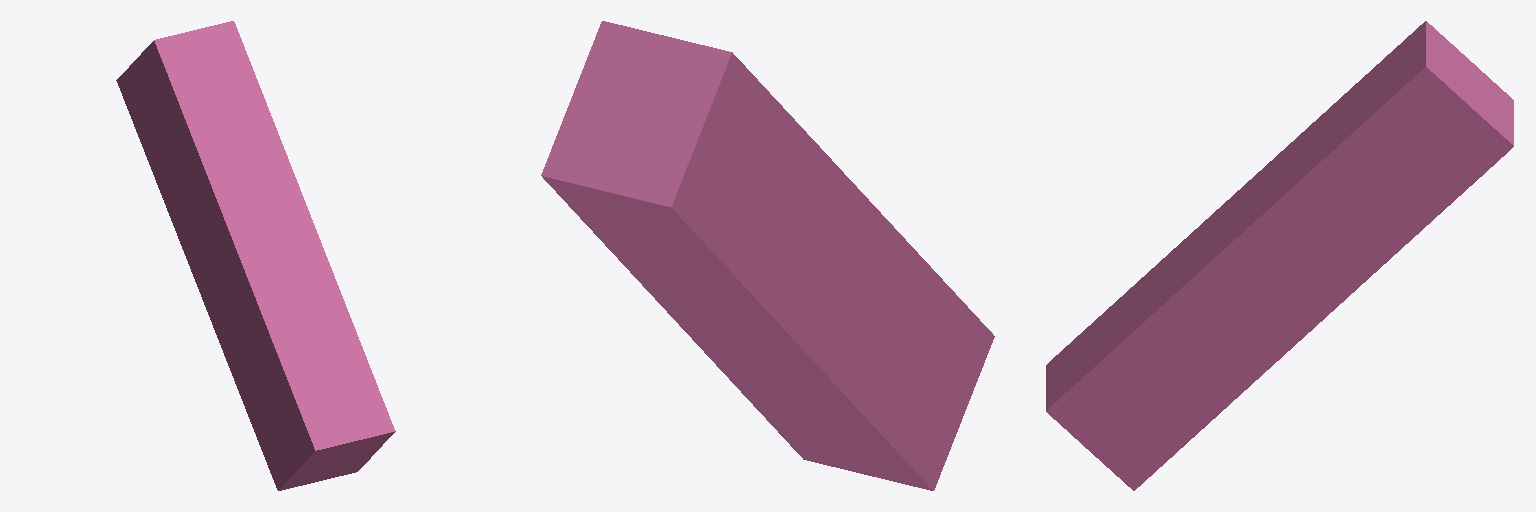
URDF robot description (panda):
<?xml version="1.0" ?>
<!-- =================================================================================== -->
<!-- |    This document was autogenerated by xacro from panda_arm.urdf.xacro           | -->
<!-- |    EDITING THIS FILE BY HAND IS NOT RECOMMENDED                                 | -->
<!-- =================================================================================== -->
<robot name="panda">
  <link name="panda_link0">
    <visual>
      <geometry>
        <mesh filename="franka_description/meshes/visual/link0.dae"/>
      </geometry>
    </visual>
    <collision>
      <geometry>
        <mesh filename="franka_description/meshes/collision/link0.stl"/>
      </geometry>
    </collision>
    <inertial>
      <origin rpy="0 0 0" xyz="-0.041018 -0.00014 0.049974"/>
      <mass value="0.629769"/>
      <inertia ixx="0.00315" ixy="8.2904e-07" ixz="0.00015" iyy="0.00388" iyz="8.2299e-06" izz="0.004285"/>
    </inertial>
  </link>
  <link name="panda_link1">
    <visual>
      <geometry>
        <mesh filename="franka_description/meshes/visual/link1.dae"/>
      </geometry>
    </visual>
    <collision>
      <geometry>
        <mesh filename="franka_description/meshes/collision/link1.stl"/>
      </geometry>
    </collision>
    <inertial>
      <origin rpy="0 0 0" xyz="0.003875 0.002081 -0.04762"/>
      <mass value="4.970684"/>
      <inertia ixx="0.70337" ixy="-0.000139" ixz="0.006772" iyy="0.70661" iyz="0.019169" izz="0.009117"/>
    </inertial>
  </link>
  <joint name="panda_joint1" type="revolute">
    <safety_controller k_position="100.0" k_velocity="40.0" soft_lower_limit="-2.8973" soft_upper_limit="2.8973"/>
    <origin rpy="0 0 0" xyz="0 0 0.333"/>
    <parent link="panda_link0"/>
    <child link="panda_link1"/>
    <axis xyz="0 0 1"/>
    <limit effort="87" lower="-2.8973" upper="2.8973" velocity="2.1750"/>
    <dynamics D="1" K="7000" damping="0.003" friction="0.0" mu_coulomb="0" mu_viscous="16"/>
  </joint>
  <link name="panda_link2">
    <visual>
      <geometry>
        <mesh filename="franka_description/meshes/visual/link2.dae"/>
      </geometry>
    </visual>
    <collision>
      <geometry>
        <mesh filename="franka_description/meshes/collision/link2.stl"/>
      </geometry>
    </collision>
    <inertial>
      <origin rpy="0 0 0" xyz="-0.003141 -0.02872  0.003495"/>
      <mass value="0.646926"/>
      <inertia ixx="0.007962" ixy="-0.003925" ixz="0.010254" iyy="0.02811" iyz="0.000704" izz="0.025995"/>
    </inertial>
  </link>
  <joint name="panda_joint2" type="revolute">
    <safety_controller k_position="100.0" k_velocity="40.0" soft_lower_limit="-1.7628" soft_upper_limit="1.7628"/>
    <origin rpy="-1.5707963267948966 0 0" xyz="0 0 0"/>
    <parent link="panda_link1"/>
    <child link="panda_link2"/>
    <axis xyz="0 0 1"/>
    <limit effort="87" lower="-1.7628" upper="1.7628" velocity="2.1750"/>
    <dynamics D="1" K="7000" damping="0.003" friction="0.0" mu_coulomb="0" mu_viscous="16"/>
  </joint>
  <link name="panda_link3">
    <visual>
      <geometry>
        <mesh filename="franka_description/meshes/visual/link3.dae"/>
      </geometry>
    </visual>
    <collision>
      <geometry>
        <mesh filename="franka_description/meshes/collision/link3.stl"/>
      </geometry>
    </collision>
    <inertial>
      <origin rpy="0 0 0" xyz="2.7518e-02 3.9252e-02 -6.6502e-02"/>
      <mass value="3.228604"/>
      <inertia ixx="0.037242" ixy="-0.004761" ixz="-0.011396" iyy="0.036155" iyz="-0.012805" izz="0.01083"/>
    </inertial>
  </link>
  <joint name="panda_joint3" type="revolute">
    <safety_controller k_position="100.0" k_velocity="40.0" soft_lower_limit="-2.8973" soft_upper_limit="2.8973"/>
    <origin rpy="1.5707963267948966 0 0" xyz="0 -0.316 0"/>
    <parent link="panda_link2"/>
    <child link="panda_link3"/>
    <axis xyz="0 0 1"/>
    <limit effort="87" lower="-2.8973" upper="2.8973" velocity="2.1750"/>
    <dynamics D="1" K="7000" damping="0.003" friction="0.0" mu_coulomb="0" mu_viscous="16"/>
  </joint>
  <link name="panda_link4">
    <visual>
      <geometry>
        <mesh filename="franka_description/meshes/visual/link4.dae"/>
      </geometry>
    </visual>
    <collision>
      <geometry>
        <mesh filename="franka_description/meshes/collision/link4.stl"/>
      </geometry>
    </collision>
    <inertial>
      <origin rpy="0 0 0" xyz="-5.317e-02 1.04419e-01 2.7454e-02"/>
      <mass value="3.587895"/>
      <inertia ixx="0.025853" ixy="0.007796" ixz="-0.001332" iyy="0.019552" iyz="0.008641" izz="0.028323"/>
    </inertial>
  </link>
  <joint name="panda_joint4" type="revolute">
    <safety_controller k_position="100.0" k_velocity="40.0" soft_lower_limit="-3.0718" soft_upper_limit="-0.0698"/>
    <origin rpy="1.5707963267948966 0 0" xyz="0.0825 0 0"/>
    <parent link="panda_link3"/>
    <child link="panda_link4"/>
    <axis xyz="0 0 1"/>
    <limit effort="87" lower="-3.0718" upper="-0.0698" velocity="2.1750"/>
    <dynamics D="1" K="7000" damping="0.003" friction="0.0" mu_coulomb="0" mu_viscous="16"/>
  </joint>
  <link name="panda_link5">
    <visual>
      <geometry>
        <mesh filename="franka_description/meshes/visual/link5.dae"/>
      </geometry>
    </visual>
    <collision>
      <geometry>
        <mesh filename="franka_description/meshes/collision/link5.stl"/>
      </geometry>
    </collision>
    <inertial>
      <origin rpy="0 0 0" xyz="-1.1953e-02 4.1065e-02 -3.8437e-02"/>
      <mass value="1.225946"/>
      <inertia ixx="0.035549" ixy="-0.002117" ixz="-0.004037" iyy="0.029474" iyz="0.000229" izz="0.008627"/>
    </inertial>
  </link>
  <joint name="panda_joint5" type="revolute">
    <safety_controller k_position="100.0" k_velocity="40.0" soft_lower_limit="-2.8973" soft_upper_limit="2.8973"/>
    <origin rpy="-1.5707963267948966 0 0" xyz="-0.0825 0.384 0"/>
    <parent link="panda_link4"/>
    <child link="panda_link5"/>
    <axis xyz="0 0 1"/>
    <limit effort="12" lower="-2.8973" upper="2.8973" velocity="2.6100"/>
    <dynamics D="1" K="7000" damping="0.003" friction="0.0" mu_coulomb="0" mu_viscous="16"/>
  </joint>
  <link name="panda_link6">
    <visual>
      <geometry>
        <mesh filename="franka_description/meshes/visual/link6.dae"/>
      </geometry>
    </visual>
    <collision>
      <geometry>
        <mesh filename="franka_description/meshes/collision/link6.stl"/>
      </geometry>
    </collision>
    <inertial>
      <origin rpy="0 0 0" xyz="6.0149e-02 -1.4117e-02 -1.0517e-02"/>
      <mass value="1.666555"/>
      <inertia ixx="0.001964" ixy="0.000109" ixz="-0.001158" iyy="0.004354" iyz="0.000341" izz="0.005433"/>
    </inertial>
  </link>
  <joint name="panda_joint6" type="revolute">
    <safety_controller k_position="100.0" k_velocity="40.0" soft_lower_limit="-0.0175" soft_upper_limit="3.7525"/>
    <origin rpy="1.5707963267948966 0 0" xyz="0 0 0"/>
    <parent link="panda_link5"/>
    <child link="panda_link6"/>
    <axis xyz="0 0 1"/>
    <limit effort="12" lower="-0.0175" upper="3.7525" velocity="2.6100"/>
    <dynamics D="1" K="7000" damping="0.003" friction="0.0" mu_coulomb="0" mu_viscous="16"/>
  </joint>
  <link name="panda_link7">
    <visual>
      <geometry>
        <mesh filename="franka_description/meshes/visual/link7.dae"/>
      </geometry>
    </visual>
    <collision>
      <geometry>
        <mesh filename="franka_description/meshes/collision/link7.stl"/>
      </geometry>
    </collision>
    <inertial>
      <origin rpy="0 0 0" xyz="1.0517e-02 -4.252e-03 6.1597e-02"/>
      <mass value="0.735522"/>
      <inertia ixx="0.012516" ixy="-0.000428" ixz="-0.001196" iyy="0.010027" iyz="-0.000741" izz="0.004815"/>
    </inertial>
  </link>
  <joint name="panda_joint7" type="revolute">
    <safety_controller k_position="100.0" k_velocity="40.0" soft_lower_limit="-2.8973" soft_upper_limit="2.8973"/>
    <origin rpy="1.5707963267948966 0 0" xyz="0.088 0 0"/>
    <parent link="panda_link6"/>
    <child link="panda_link7"/>
    <axis xyz="0 0 1"/>
    <limit effort="12" lower="-2.8973" upper="2.8973" velocity="2.6100"/>
    <dynamics D="1" K="7000" damping="0.003" friction="0.0" mu_coulomb="0" mu_viscous="16"/>
  </joint>
  <link name="panda_link8"/>
  <joint name="panda_joint8" type="fixed">
    <origin rpy="0 0 0" xyz="0 0 0.107"/>
    <parent link="panda_link7"/>
    <child link="panda_link8"/>
  </joint>
  <joint name="panda_hand_joint" type="fixed">
    <parent link="panda_link8"/>
    <child link="panda_hand"/>
    <origin rpy="0 0 -0.7853981633974483" xyz="0 0 0"/>
  </joint>
  <link name="panda_hand">
    <visual>
      <geometry>
        <mesh filename="franka_description/meshes/visual/hand.dae"/>
      </geometry>
    </visual>
    <collision>
      <geometry>
        <mesh filename="franka_description/meshes/collision/hand.stl"/>
      </geometry>
    </collision>
    <inertial>
      <origin rpy="0 0 0" xyz="-0.01 0 0.03"/>
      <mass value="0.73"/>
      <inertia ixx="0.001" ixy="0" ixz="0" iyy="0.0025" iyz="0" izz="0.0017"/>
    </inertial>
  </link>
  <!-- Define the hand_tcp frame -->
  <link name="panda_hand_tcp"/>
  <joint name="panda_hand_tcp_joint" type="fixed">
    <origin rpy="0 0 0" xyz="0 0 0.1034"/>
    <parent link="panda_hand"/>
    <child link="panda_hand_tcp"/>
  </joint>
  <link name="panda_leftfinger">
    <visual>
      <geometry>
        <mesh filename="franka_description/meshes/visual/finger.dae"/>
      </geometry>
    </visual>
    <!-- screw mount -->
    <collision>
      <origin rpy="0 0 0" xyz="0 18.5e-3 11e-3"/>
      <geometry>
        <box size="22e-3 15e-3 20e-3"/>
      </geometry>
    </collision>
    <!-- cartriage sledge -->
    <collision>
      <origin rpy="0 0 0" xyz="0 6.8e-3 2.2e-3"/>
      <geometry>
        <box size="22e-3 8.8e-3 3.8e-3"/>
      </geometry>
    </collision>
    <!-- diagonal finger -->
    <collision>
      <origin rpy="0.5235987755982988 0 0" xyz="0 15.9e-3 28.35e-3"/>
      <geometry>
        <box size="17.5e-3 7e-3 23.5e-3"/>
      </geometry>
    </collision>
    <!-- rubber tip with which to grasp -->
    <collision>
      <origin rpy="0 0 0" xyz="0 7.58e-3 45.25e-3"/>
      <geometry>
        <box size="17.5e-3 15.2e-3 18.5e-3"/>
      </geometry>
    </collision>
    <inertial>
      <origin rpy="0 0 0" xyz="0 0 0"/>
      <mass value="0.015"/>
      <inertia ixx="2.3749999999999997e-06" ixy="0" ixz="0" iyy="2.3749999999999997e-06" iyz="0" izz="7.5e-07"/>
    </inertial>
  </link>
  <link name="panda_rightfinger">
    <visual>
      <origin rpy="0 0 3.141592653589793" xyz="0 0 0"/>
      <geometry>
        <mesh filename="franka_description/meshes/visual/finger.dae"/>
      </geometry>
    </visual>
    <!-- screw mount -->
    <collision>
      <origin rpy="0 0 0" xyz="0 -18.5e-3 11e-3"/>
      <geometry>
        <box size="22e-3 15e-3 20e-3"/>
      </geometry>
    </collision>
    <!-- cartriage sledge -->
    <collision>
      <origin rpy="0 0 0" xyz="0 -6.8e-3 2.2e-3"/>
      <geometry>
        <box size="22e-3 8.8e-3 3.8e-3"/>
      </geometry>
    </collision>
    <!-- diagonal finger -->
    <collision>
      <origin rpy="-0.5235987755982988 0 0" xyz="0 -15.9e-3 28.35e-3"/>
      <geometry>
        <box size="17.5e-3 7e-3 23.5e-3"/>
      </geometry>
    </collision>
    <!-- rubber tip with which to grasp -->
    <collision>
      <origin rpy="0 0 0" xyz="0 -7.58e-3 45.25e-3"/>
      <geometry>
        <box size="17.5e-3 15.2e-3 18.5e-3"/>
      </geometry>
    </collision>
    <inertial>
      <origin rpy="0 0 0" xyz="0 0 0"/>
      <mass value="0.015"/>
      <inertia ixx="2.3749999999999997e-06" ixy="0" ixz="0" iyy="2.3749999999999997e-06" iyz="0" izz="7.5e-07"/>
    </inertial>
  </link>
  <joint name="panda_finger_joint1" type="prismatic">
    <parent link="panda_hand"/>
    <child link="panda_leftfinger"/>
    <origin rpy="0 0 0" xyz="0 0 0.0584"/>
    <axis xyz="0 1 0"/>
    <limit effort="100" lower="0.0" upper="0.04" velocity="0.2"/>
    <dynamics damping="0.3"/>
  </joint>
  <joint name="panda_finger_joint2" type="prismatic">
    <parent link="panda_hand"/>
    <child link="panda_rightfinger"/>
    <origin rpy="0 0 0" xyz="0 0 0.0584"/>
    <axis xyz="0 -1 0"/>
    <limit effort="100" lower="0.0" upper="0.04" velocity="0.2"/>
    <mimic joint="panda_finger_joint1"/>
    <dynamics damping="0.3"/>
  </joint>
  
  <!--  camera mount-->
  <joint name="realsense_joint" type="fixed">
    <origin rpy="0 -1.5707 3.1415" xyz="0.035 0 0.036"/>
    <parent link="panda_hand"/>
    <child link="camera_base_link"/>
  </joint>
  <link name="camera_base_link"/>
  <joint name="camera_link_joint" type="fixed">
    <origin rpy="0 0 0" xyz="0 0.02 0.0115"/>
    <parent link="camera_base_link"/>
    <child link="camera_link"/>
  </joint>
  <link name="camera_link">
    <!-- <visual>
      <origin rpy="1.57079632679 0 1.57079632679" xyz="0.00987 -0.02 0"/>
      <geometry>
        <mesh filename="franka_description/meshes/visual/d435.dae" />
      </geometry>
    </visual> -->
    <visual>
      <origin rpy="0 0 0" xyz="0 -0.02 0"/>
      <geometry>
        <box size="0.02005 0.099 0.023"/>
      </geometry>
    </visual>
    <collision>
      <origin rpy="0 0 0" xyz="0 -0.02 0"/>
      <geometry>
        <box size="0.02005 0.099 0.023"/>
      </geometry>
    </collision>
    <inertial>
      <mass value="0.564"/>
      <origin xyz="0 0 0"/>
      <inertia ixx="0.003881243" ixy="0.0" ixz="0.0" iyy="0.000498940" iyz="0.0" izz="0.003879257"/>
    </inertial>
  </link>
</robot>

--- Render facts (derived) ---
The picture shows the robot from 3 angles, left to right: view 1: azimuth 30°, elevation 25°; view 2: azimuth 150°, elevation 25°; view 3: azimuth 270°, elevation 25°; orthographic projection.
Model panda with 15 links and 14 joints (7 revolute, 2 prismatic, 5 fixed), rooted at panda_link0, posed all joints at 0 but 1 set to mid-range because 0 is outside their limits (panda_joint4 = -1.57).
Links seen in each view (by area): view 1: camera_link; view 2: camera_link; view 3: camera_link.
Link boxes in pixels (box(x1,y1,x2,y2)): camera_link: box(116, 21, 395, 490); camera_link: box(541, 21, 994, 490); camera_link: box(1046, 21, 1513, 490).
Size in the robot's own frame: 0.0201 by 0.0863 by 0.0863 metres.
Meshes: 10 distinct files referenced, 0 mesh visuals loaded (none loaded); not drawn: 11 (reference not matched to a file when rendering).